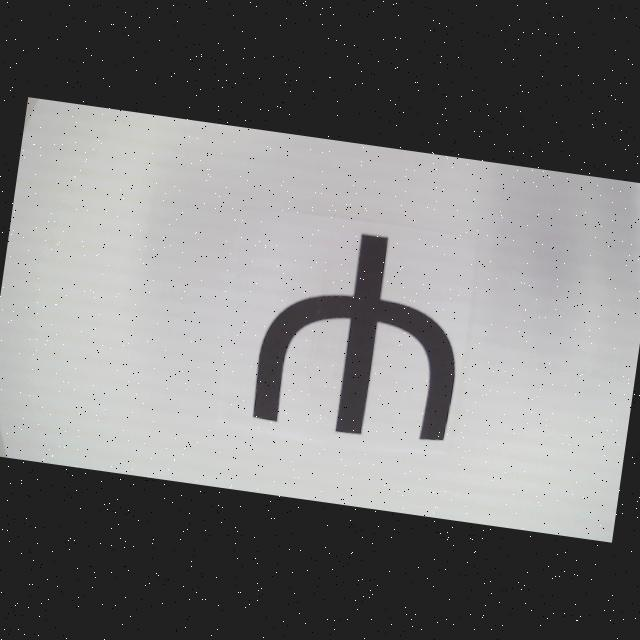PSI: (250, 222, 473, 448)
